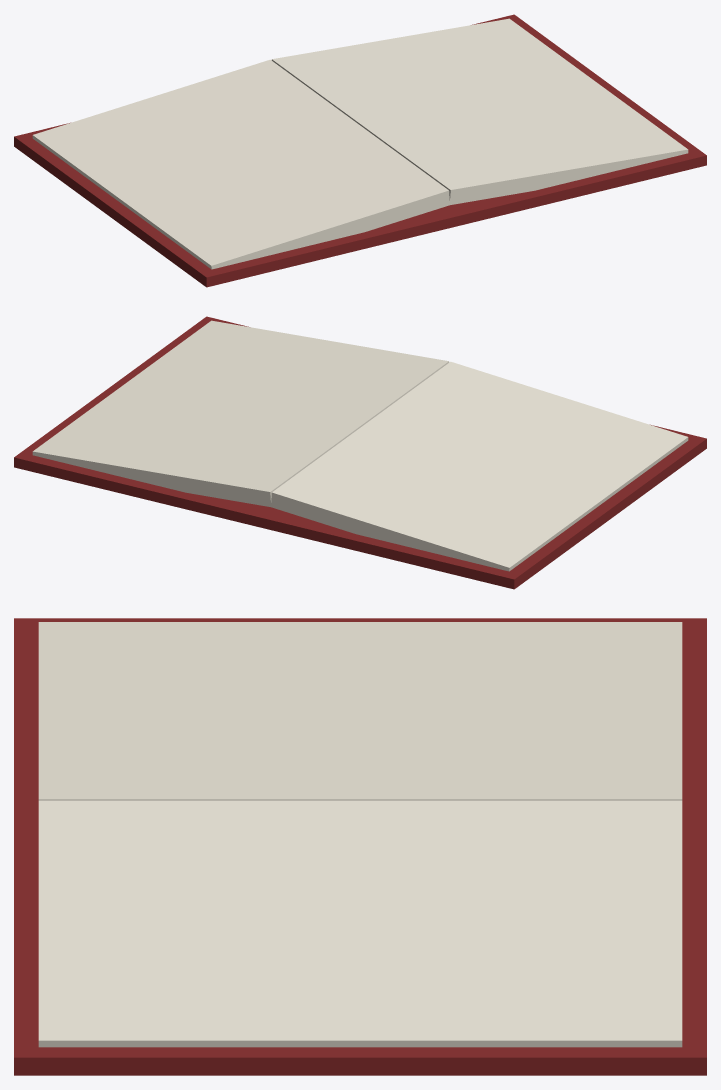
File: GD_OpenBook_01.glb
The picture shows the model from 3 angles, top to bottom: view 1: azimuth 30°, elevation 25°; view 2: azimuth 150°, elevation 25°; view 3: azimuth 270°, elevation 25°; orthographic projection. The views are drawn at different scales.
Parts seen in each view (by area): view 1: GD_OpenBook_01; view 2: GD_OpenBook_01; view 3: GD_OpenBook_01.
Boxes of the visible parts, x1=… form: GD_OpenBook_01: x1=14, y1=14, x2=706, y2=287; GD_OpenBook_01: x1=14, y1=316, x2=706, y2=589; GD_OpenBook_01: x1=14, y1=618, x2=706, y2=1075.
Bounding box in the file's own units: 0.42 × 0.0259 × 0.28.
1 material, 1 textured.
